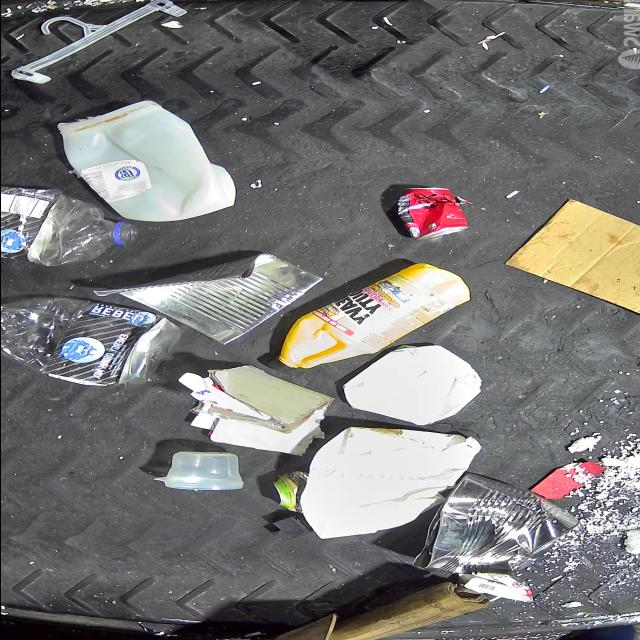can: (406, 476, 578, 584), (396, 187, 470, 240), (272, 471, 304, 509)
milk_jug: (55, 100, 235, 222)
non_white_jug: (267, 266, 473, 374)
plastic_bottle: (0, 296, 183, 386), (0, 186, 137, 266)
